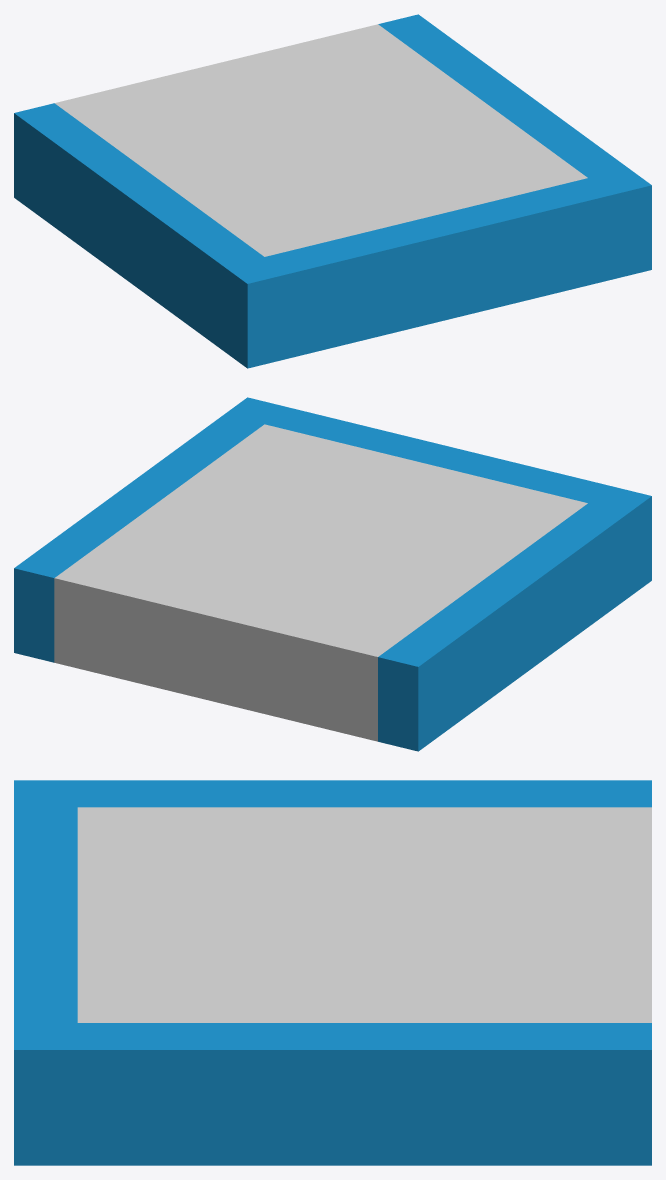
The model's file is DefaultEnd.fbx.
3 views of the same model, one above another, from view 1: azimuth 30°, elevation 25°; view 2: azimuth 150°, elevation 25°; view 3: azimuth 270°, elevation 25° (orthographic). The views are drawn at different scales.
Visible parts, largest first — view 1: Matrix_10; view 2: Matrix_10; view 3: Matrix_10.
Part boxes in pixels (box(x1,y1,x2,y2)): Matrix_10: box(14, 14, 651, 368); Matrix_10: box(14, 397, 651, 751); Matrix_10: box(14, 780, 651, 1165).
Bounding box in the file's own units: 10 × 2 × 10.
